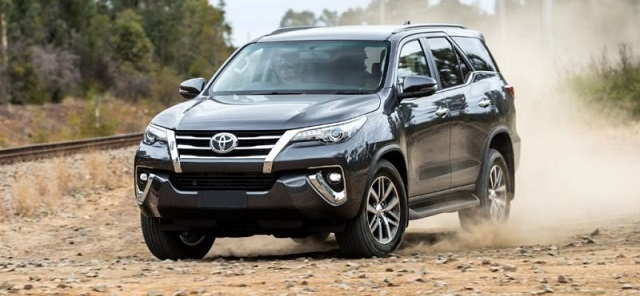car: (134, 21, 522, 258)
